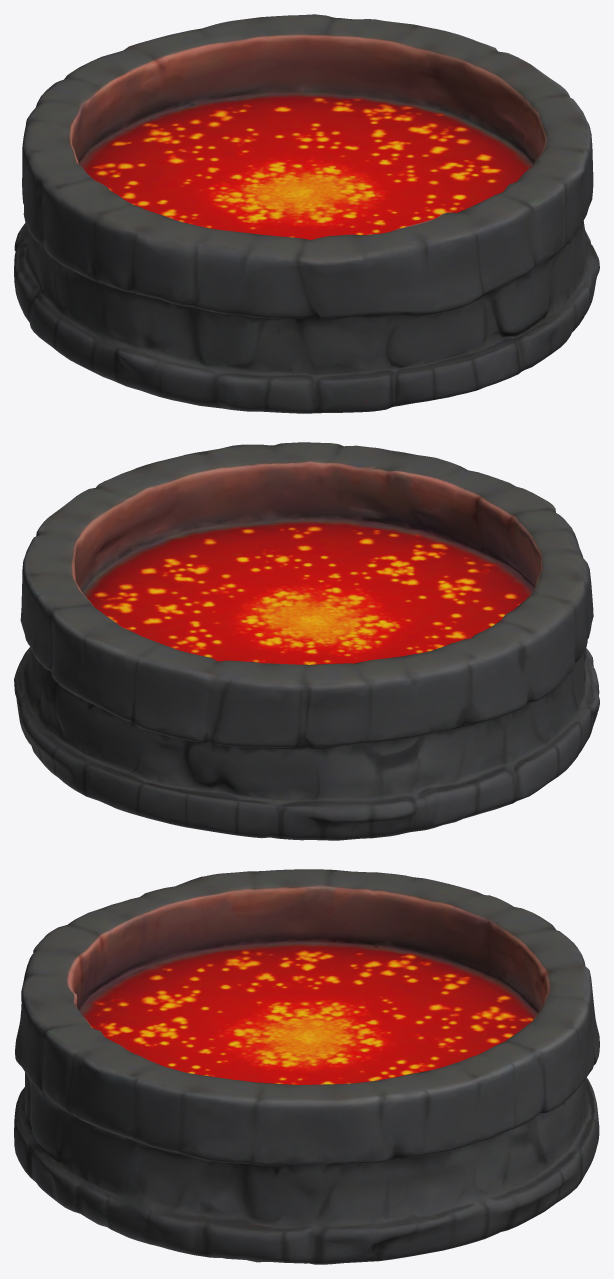
File: ember_pool.glb
3 views of the same model, one above another, from view 1: azimuth 30°, elevation 25°; view 2: azimuth 150°, elevation 25°; view 3: azimuth 270°, elevation 25° (orthographic).
Bounding box in the file's own units: 2 × 0.6308 × 2.
Materials: 1 (1 with a texture image).
